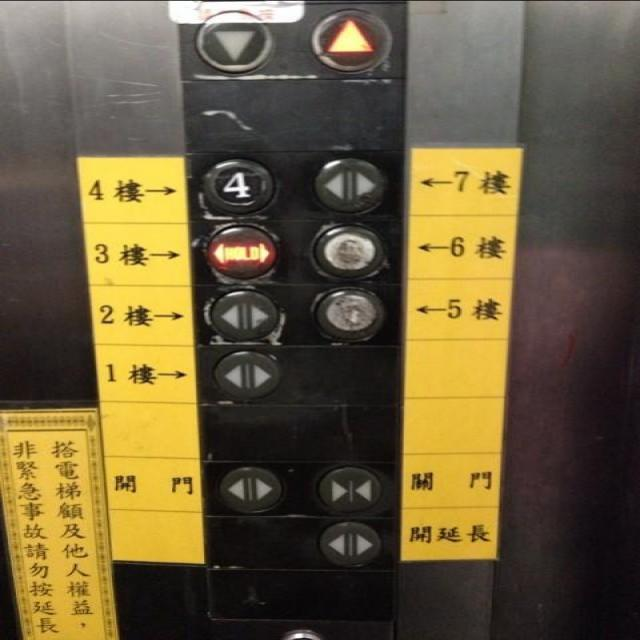4: (200, 154, 275, 216)
blur: (308, 220, 388, 280), (306, 284, 386, 344)
close: (312, 462, 385, 515)
down: (194, 8, 274, 73)
open: (308, 154, 391, 218), (209, 346, 283, 402), (206, 286, 278, 342), (315, 517, 388, 569), (211, 462, 284, 513)
text_blur: (200, 220, 281, 284)
up: (305, 8, 395, 74)
